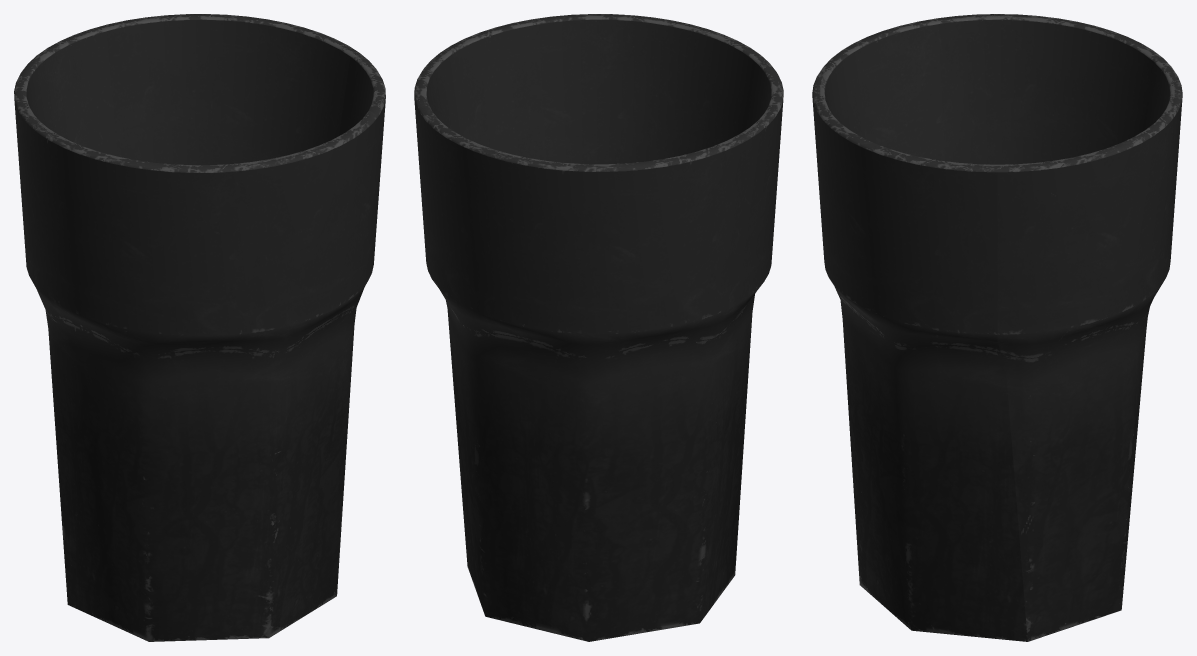
Rendered from SM_WaterGlass.fbx.
3 renders of one model, left to right at view 1: azimuth 30°, elevation 25°; view 2: azimuth 150°, elevation 25°; view 3: azimuth 270°, elevation 25°, orthographic.
Visible parts, largest first — view 1: SM_WaterGlass_LOD0; view 2: SM_WaterGlass_LOD0; view 3: SM_WaterGlass_LOD0.
Part boxes in pixels (x1=…): SM_WaterGlass_LOD0: x1=14, y1=14, x2=385, y2=641; SM_WaterGlass_LOD0: x1=414, y1=14, x2=783, y2=641; SM_WaterGlass_LOD0: x1=812, y1=14, x2=1182, y2=641.
Size of the model in its own units: 136 by 136 by 201.
